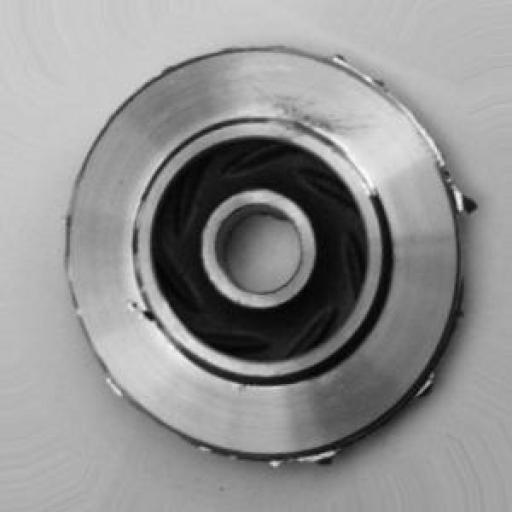defect: (48, 38, 496, 486)
